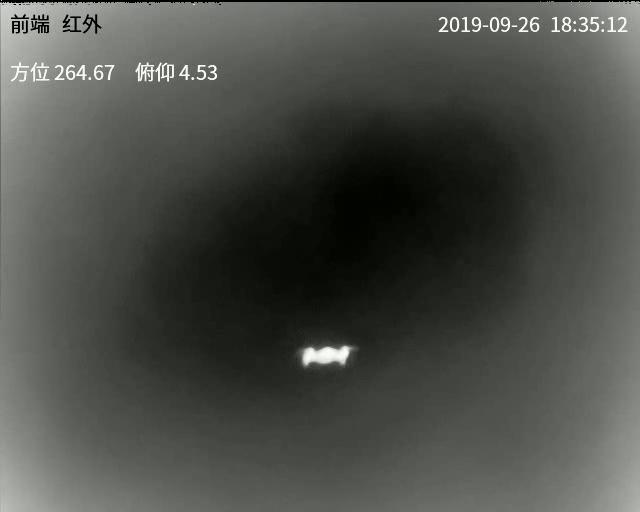DRONE: (299, 345, 353, 367)
